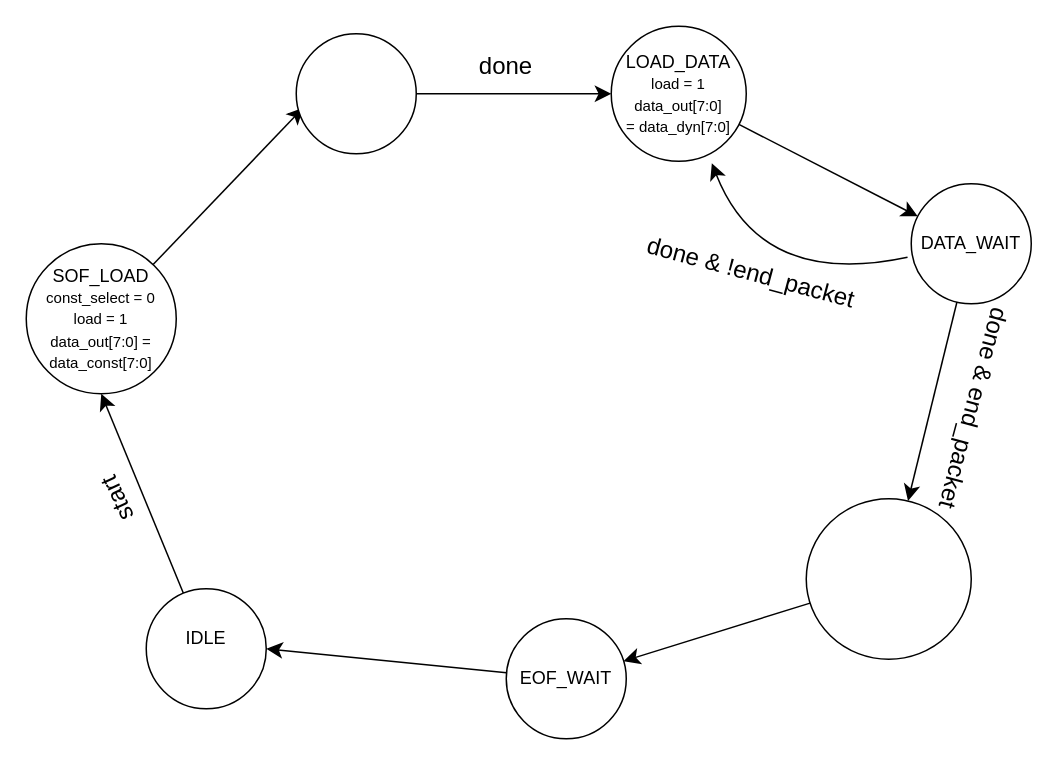
Image size: 1058x765. Some labels were removed from this diagram. Each missing label, with the box of its shape:
EOF_LOAD const_select = 1 load = 1 data_out[7:0] = data_const[7:0]: (805, 497, 971, 659)
SOF_WAIT: (295, 32, 416, 154)
